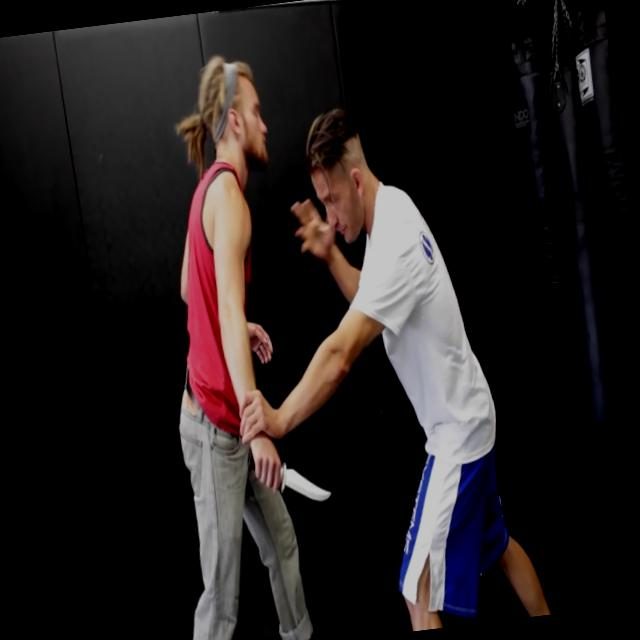knife: (239, 432, 340, 524)
